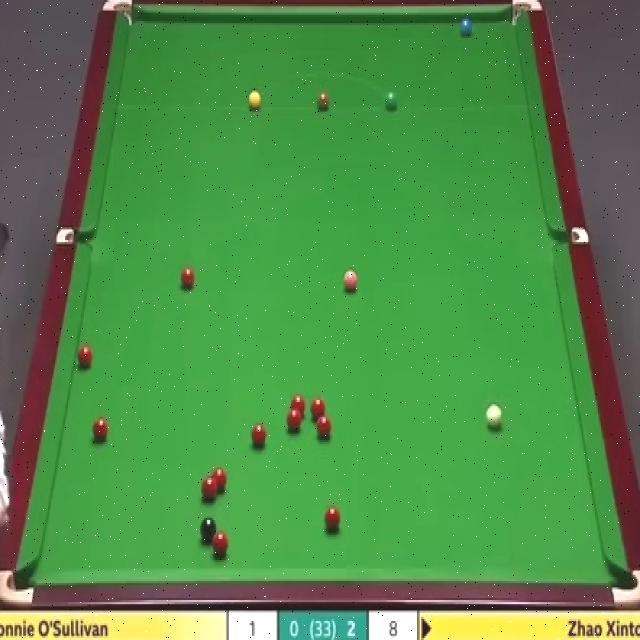black-ball: (199, 516, 217, 544)
blue-ball: (458, 14, 474, 40)
brown-ball: (316, 91, 331, 113)
green-ball: (382, 91, 397, 113)
pink-ball: (341, 265, 361, 294)
red-ball: (211, 531, 230, 560), (91, 415, 109, 444), (199, 477, 219, 503), (76, 343, 93, 370), (180, 266, 197, 290), (252, 425, 268, 450), (324, 507, 340, 532), (286, 409, 302, 434), (289, 394, 307, 416), (212, 466, 229, 489), (316, 414, 332, 438), (310, 398, 326, 419)
white-ball: (486, 402, 502, 430)
yellow-ball: (248, 90, 262, 112)
